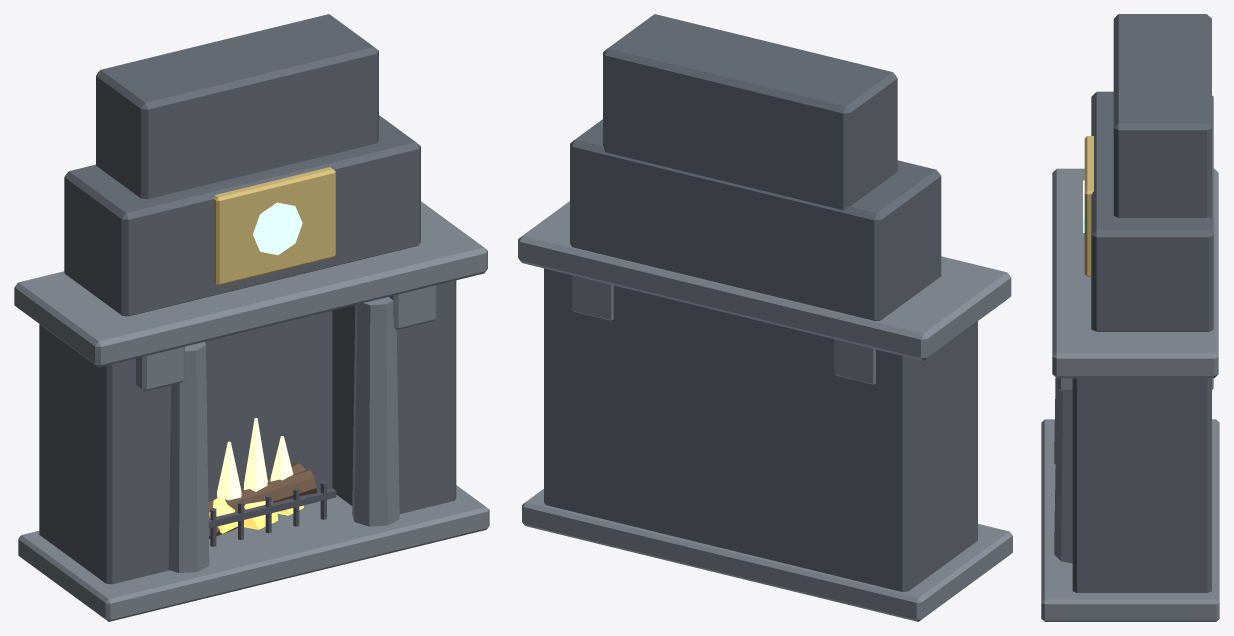
File: castle_fireplace.glb
3 renders of one model, left to right at view 1: azimuth 30°, elevation 25°; view 2: azimuth 150°, elevation 25°; view 3: azimuth 270°, elevation 25°, orthographic. The views are drawn at different scales.
Visible parts, largest first — view 1: Castle_Fireplace; view 2: Castle_Fireplace; view 3: Castle_Fireplace.
Boxes of the visible parts, bbox=[...] form: Castle_Fireplace: bbox=[14, 14, 489, 621]; Castle_Fireplace: bbox=[518, 14, 1012, 621]; Castle_Fireplace: bbox=[1041, 14, 1219, 621].
Bounding box in the file's own units: 3.53 × 4.07 × 1.42.
